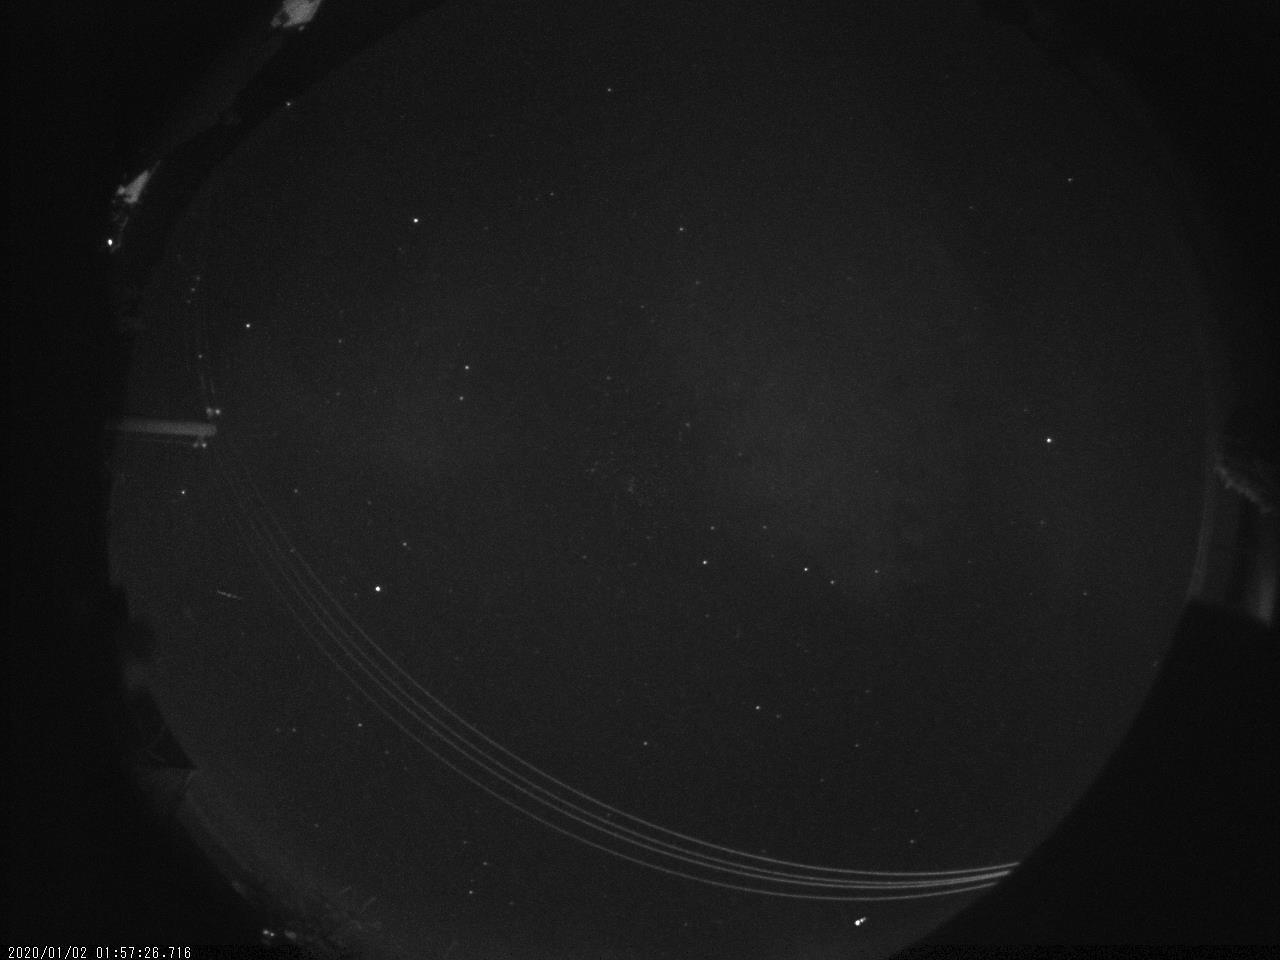Meteor: (209, 582, 249, 606), (851, 913, 869, 929)
